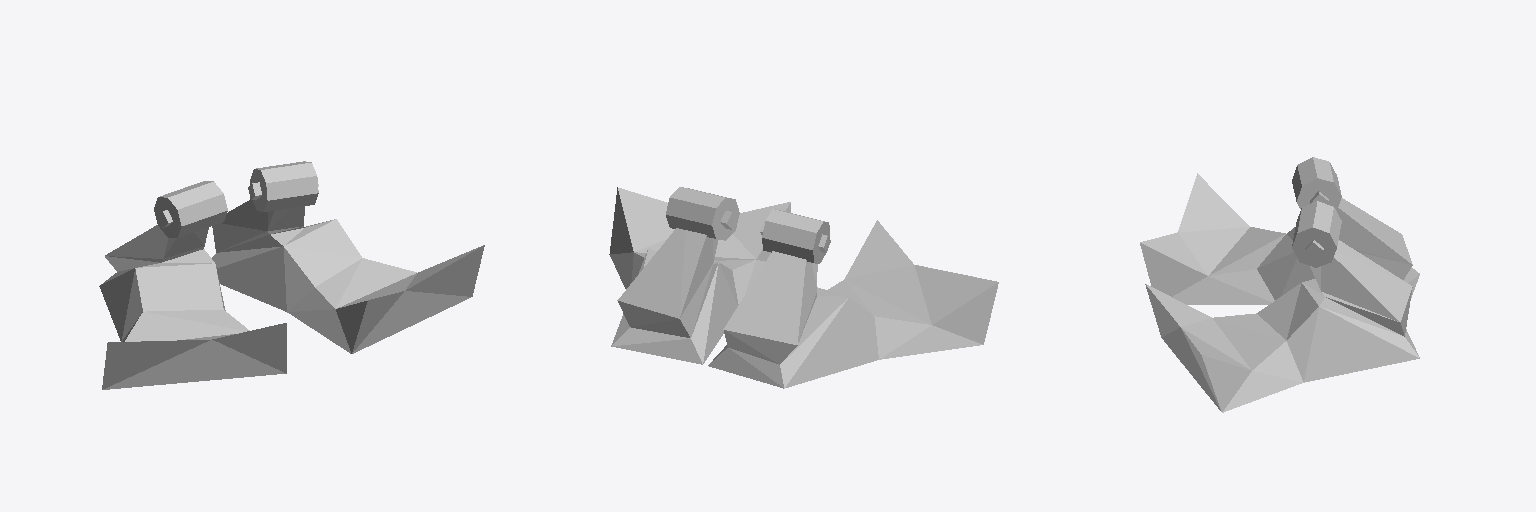
The model's file is legs.obj.
3 renders of one model, left to right at view 1: azimuth 30°, elevation 25°; view 2: azimuth 150°, elevation 25°; view 3: azimuth 270°, elevation 25°, orthographic.
Visible parts, largest first — view 1: all:transformblitzcrank_transformblitzcrank; view 2: all:transformblitzcrank_transformblitzcrank; view 3: all:transformblitzcrank_transformblitzcrank.
Part boxes in pixels (left/top/right/bottom): all:transformblitzcrank_transformblitzcrank: left=99, top=161, right=484, bottom=389; all:transformblitzcrank_transformblitzcrank: left=609, top=187, right=998, bottom=388; all:transformblitzcrank_transformblitzcrank: left=1140, top=157, right=1419, bottom=412.
Bounding box in the file's own units: 8.58 × 2.87 × 5.5.